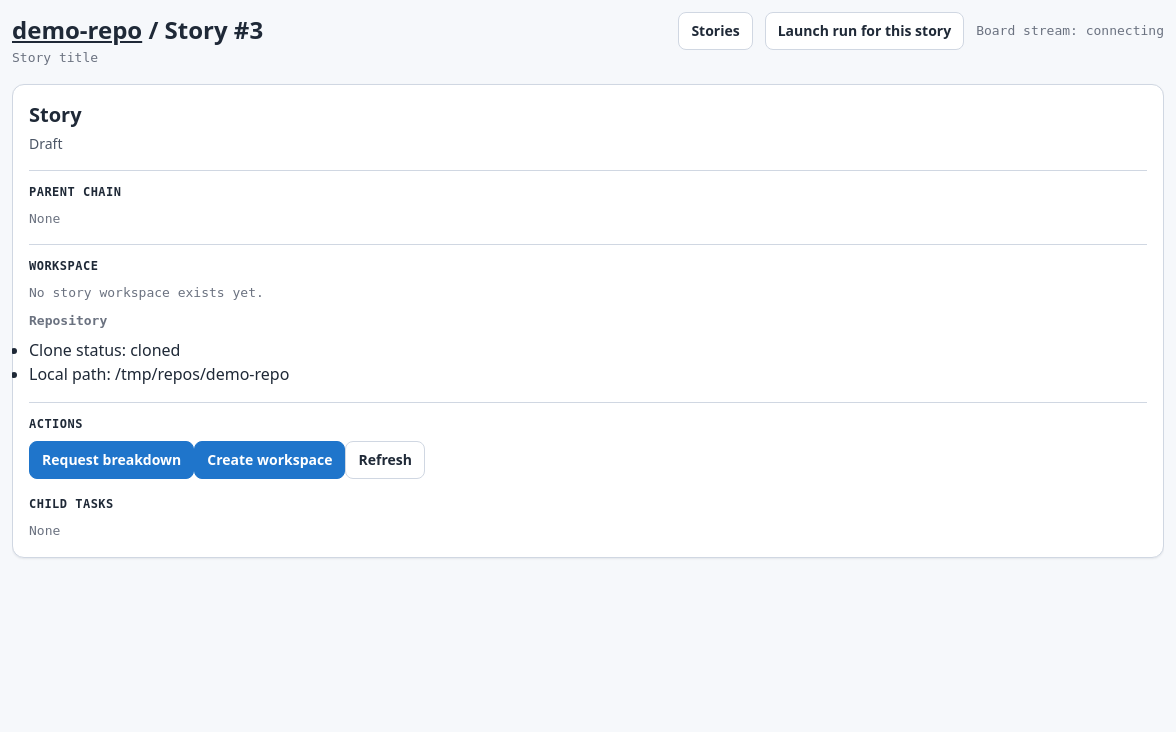
it: StoryDetailPageContent › surfaces workspace action failures
Click the button "Create workspace": x=270, y=460 [194,441,346,479]
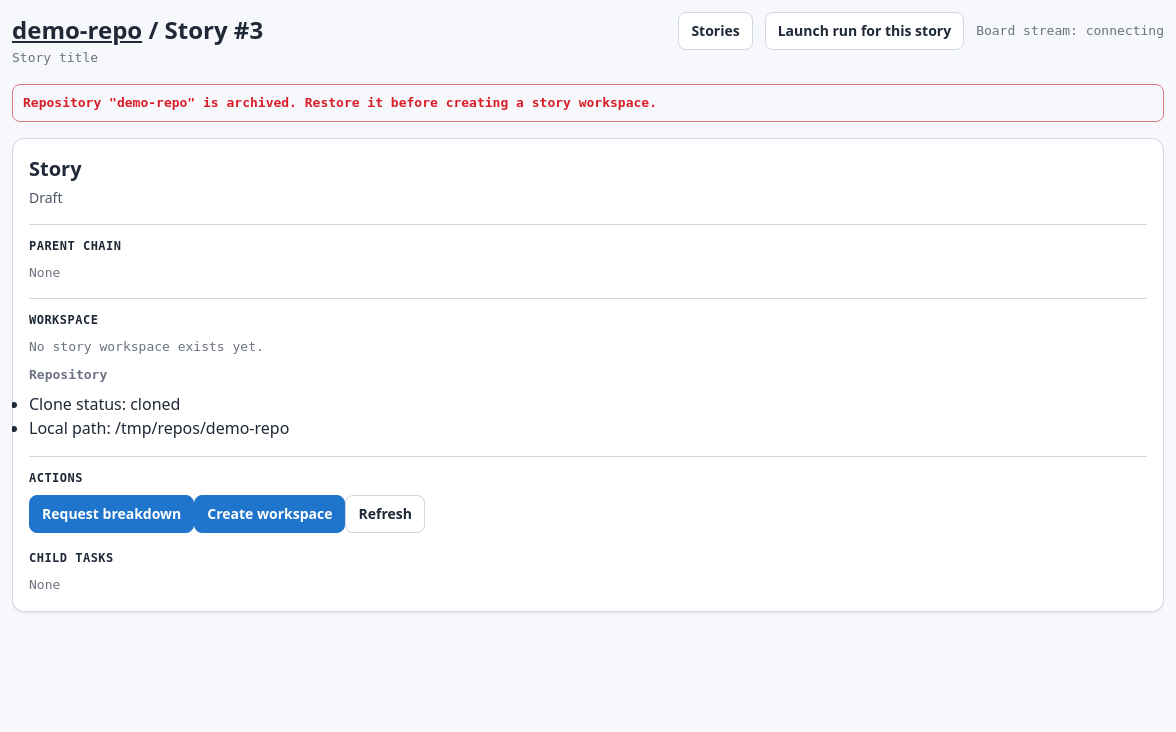
Expected: the message shows "Repository \"demo-repo\" is archived. Restore it before creating a story workspace.", [23,94,657,110]
